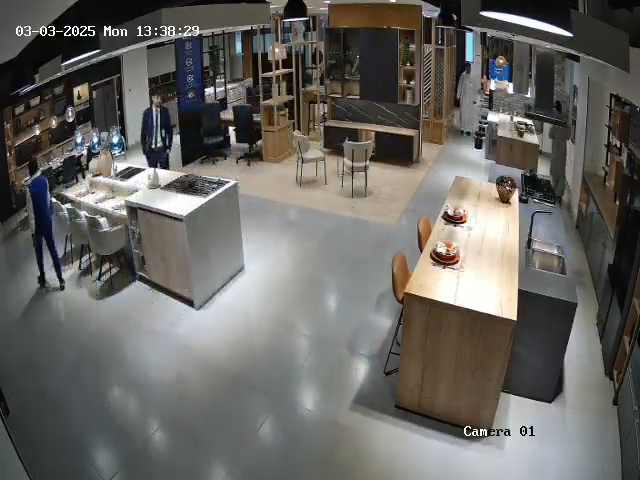employee: (26, 158, 66, 291), (140, 93, 173, 170)
male: (544, 89, 579, 202), (455, 62, 478, 136)
